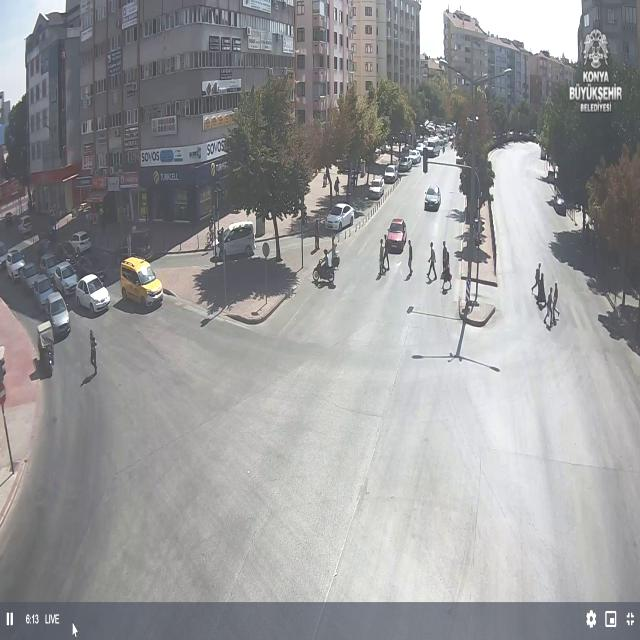Car: (75, 275, 111, 317), (43, 296, 71, 341), (48, 261, 81, 297), (30, 274, 58, 307), (325, 203, 355, 231), (386, 218, 407, 252), (4, 250, 27, 280), (63, 230, 92, 253), (18, 259, 42, 286), (39, 252, 63, 274), (424, 185, 441, 210), (368, 176, 386, 198), (335, 158, 358, 173), (17, 216, 33, 235), (552, 195, 566, 215), (6, 248, 23, 263), (384, 165, 398, 183), (397, 157, 413, 172), (423, 142, 438, 158), (406, 150, 421, 165), (0, 241, 9, 266), (377, 144, 392, 154), (3, 212, 14, 224), (414, 143, 424, 155), (436, 136, 446, 148), (455, 152, 464, 164)
Cycle: (313, 248, 337, 290)
Van: (120, 256, 166, 312), (211, 220, 257, 260)
